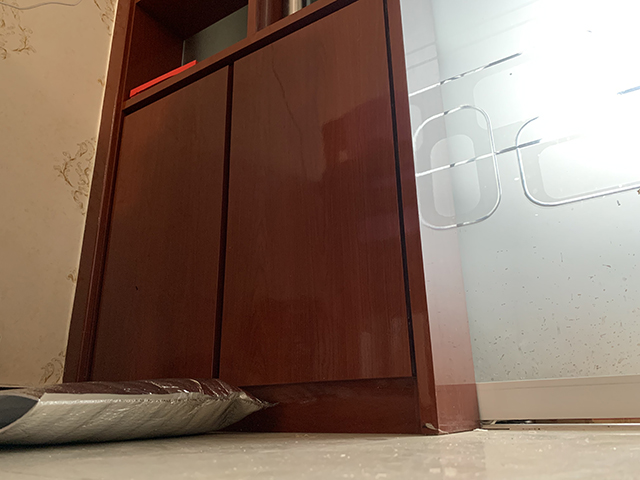cabinet: (60, 1, 485, 437)
